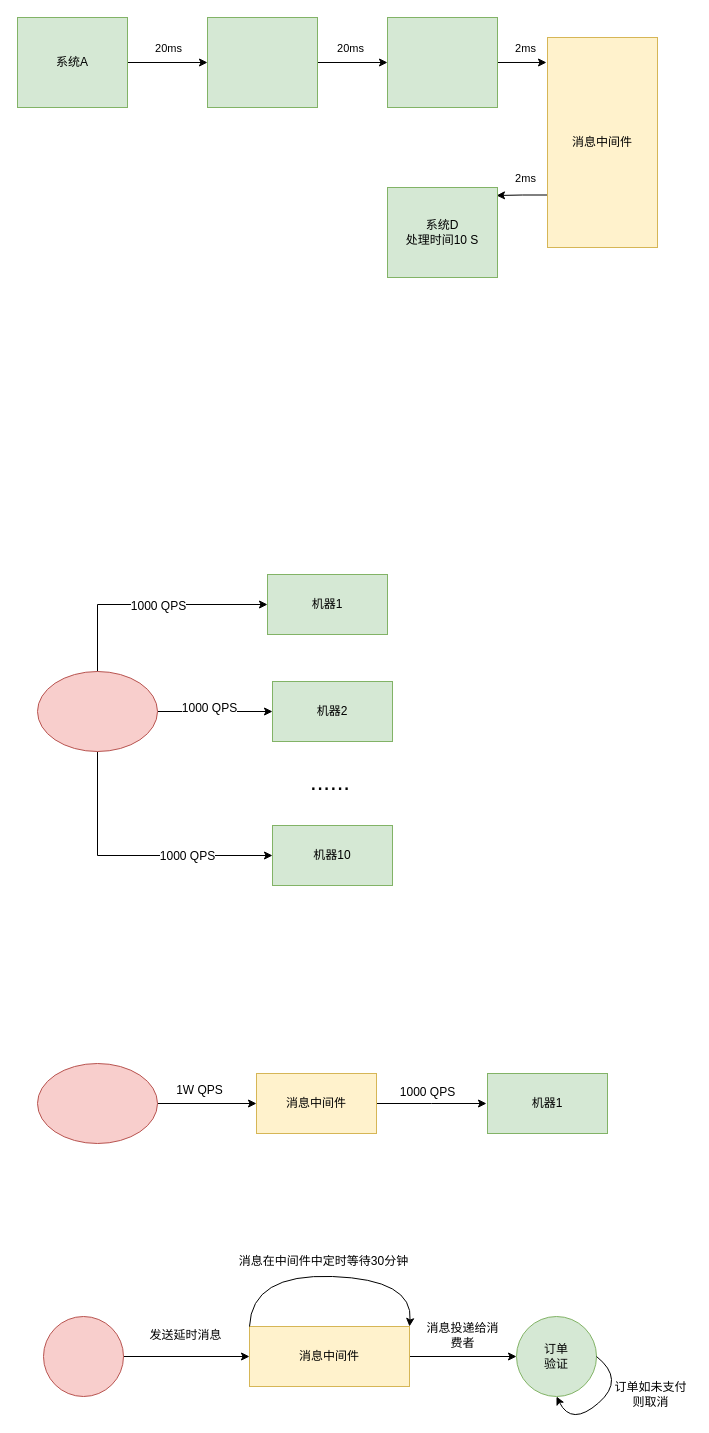
Some shapes in this 709 by 1433 pixel diagram are drawn without their labels. The box of each missing label's shape, as (x1, y1, x2, y2) in pixels:
瞬时流量: (36, 1062, 158, 1144)
瞬时流量1W qps: (36, 670, 158, 752)
系统B: (206, 16, 318, 108)
系统C: (386, 16, 498, 108)
订单 创建: (42, 1316, 124, 1396)
